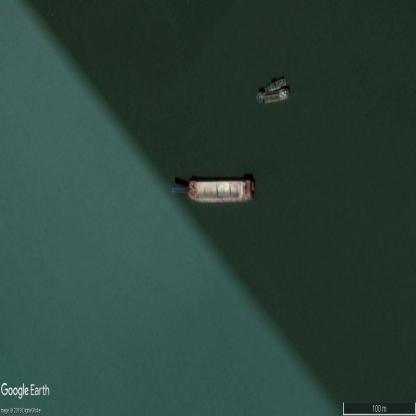ship: (172, 176, 256, 204), (257, 86, 289, 103), (263, 74, 287, 93)
